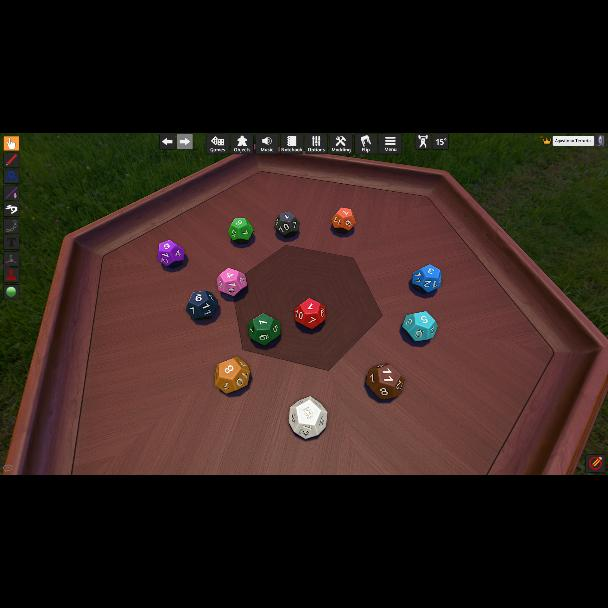d12: (288, 396, 328, 438), (366, 363, 400, 400), (214, 358, 248, 394), (248, 314, 282, 346), (295, 298, 325, 330), (411, 264, 441, 296), (402, 313, 432, 344), (217, 268, 245, 298), (186, 292, 216, 320), (158, 240, 184, 268), (274, 212, 300, 239), (228, 218, 253, 244), (332, 208, 354, 235)
